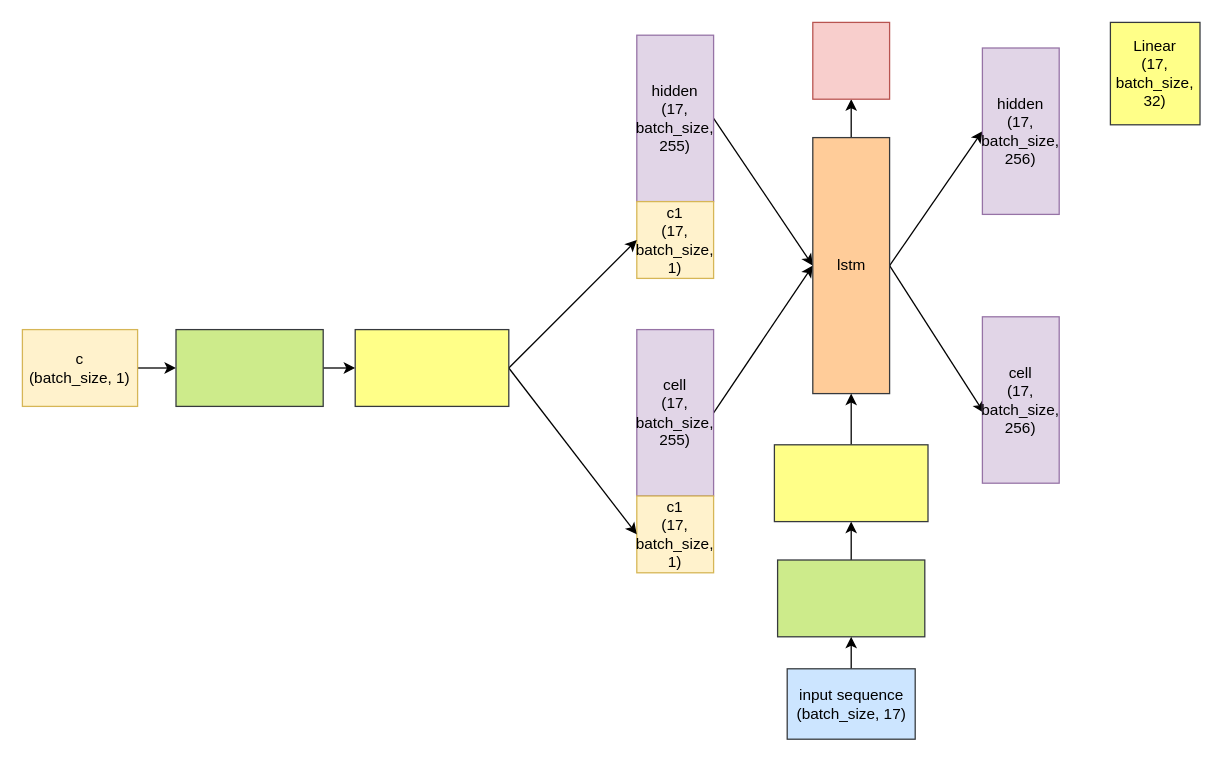
The diagram is 1222 pixels wide and 762 high, and some of its shapes have lost their labels. Each missing label, with the centre of its shape:
"discard" goes at point 851,60.
"Embedding (batch_size, 1, 8)" goes at point 249,367.
"Embedding (batch_size, 17, 256)" goes at point 850,598.
"Linear (batch_size, 1, 17)" goes at point 431,367.
"Linear (batch_size, 1, 256)" goes at point 850,483.
